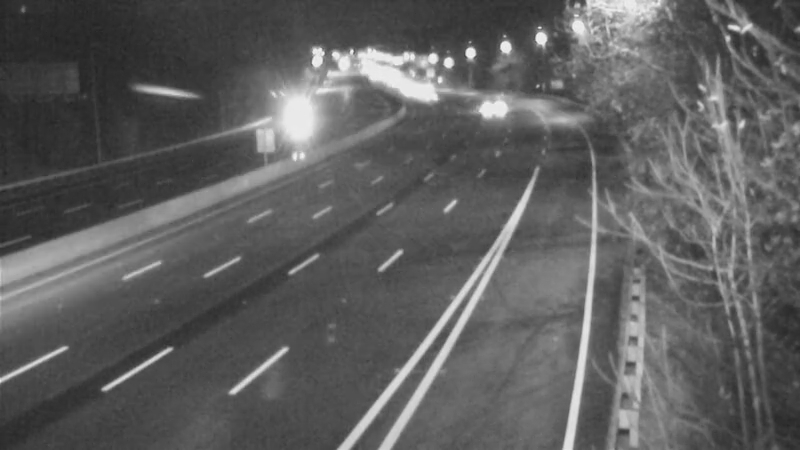vehicle: (403, 74, 453, 124), (464, 81, 514, 131), (270, 95, 320, 145)
